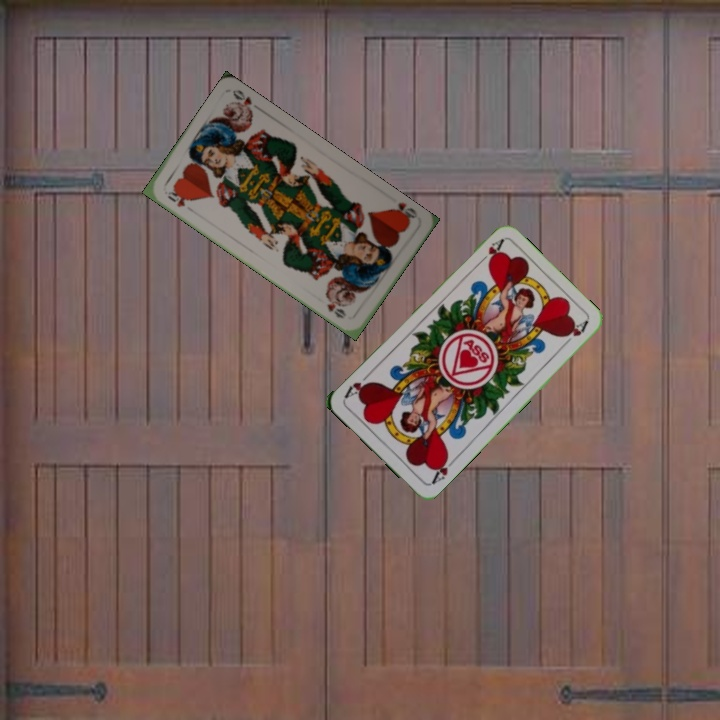HA: (427, 450, 459, 487), (473, 235, 506, 268)
HO: (386, 198, 420, 226), (164, 186, 191, 210)
